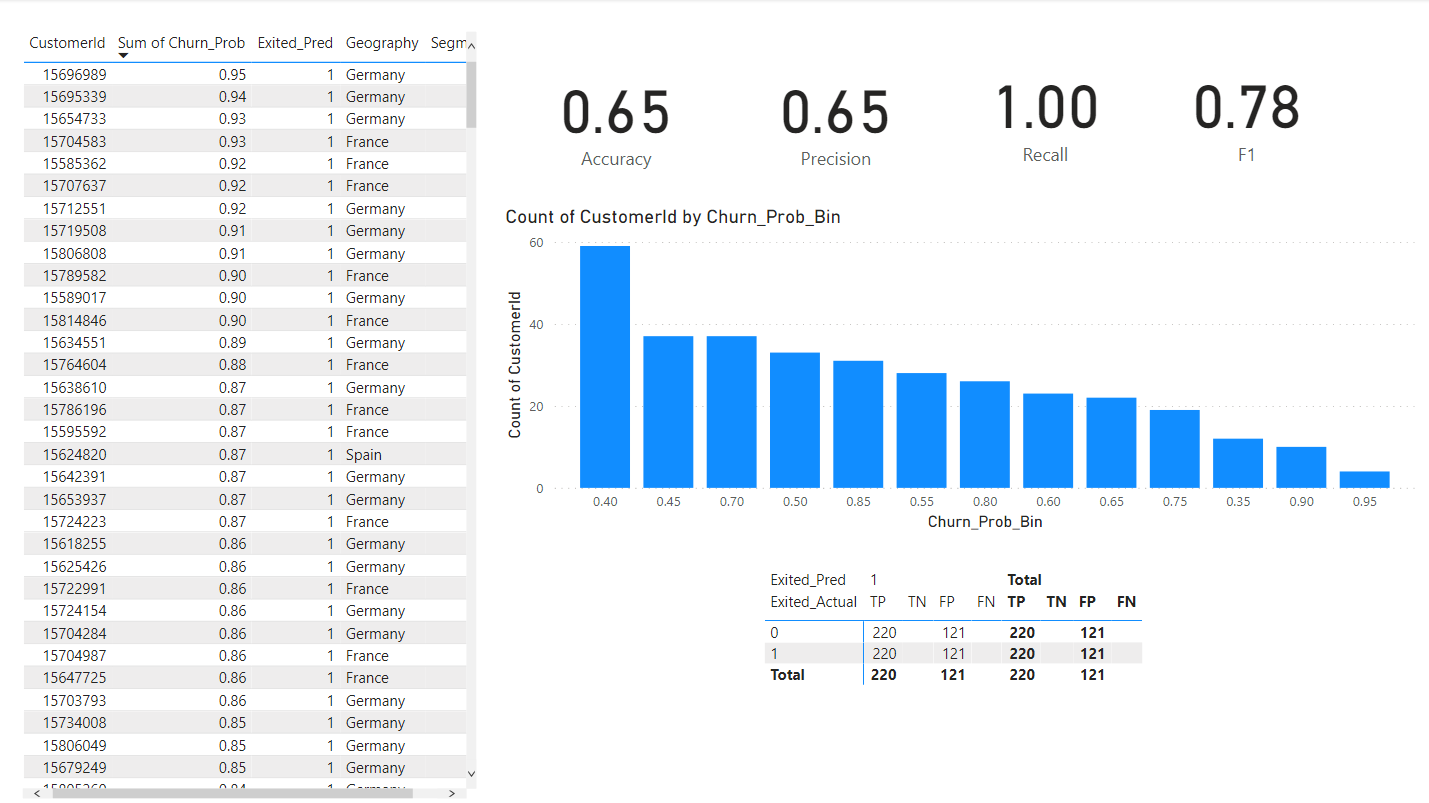

The dashboard page shown, as its layout file describes it:
{"tool":"powerbi","page":{"name":"Model Outputs","canvas":[1280,720],"ordinal":4},"visuals":[{"type":"tableEx","fields":{"Values":["churn_predictions.CustomerId","Sum(churn_predictions.Churn_Prob)","Sum(churn_predictions.Exited_Pred)","churn_predictions.Geography","Sum(bank_churn_clean.Segment)"]},"box":[16,24,416,696],"z":0},{"type":"columnChart","fields":{"Category":["churn_predictions.Churn_Prob_Bin"],"Y":["CountNonNull(churn_predictions.CustomerId)"]},"box":[448,184,824,296],"z":1000},{"type":"pivotTable","fields":{"Rows":["churn_predictions.Exited_Actual"],"Columns":["churn_predictions.Exited_Pred"],"Values":["bank_churn_clean.TP","bank_churn_clean.TN","bank_churn_clean.FP","bank_churn_clean.FN"]},"box":[680,504,368,152],"z":2000},{"type":"card","fields":{"Values":["bank_churn_clean.Accuracy"]},"box":[448,32,208,144],"z":3000},{"type":"card","fields":{"Values":["bank_churn_clean.Precision"]},"box":[648,40,200,128],"z":4000},{"type":"card","fields":{"Values":["bank_churn_clean.Recall"]},"box":[848,32,176,136],"z":5000},{"type":"card","fields":{"Values":["bank_churn_clean.F1"]},"box":[1024,32,184,136],"z":6000}]}

Visuals, with their boxes in screenshot pixels (x1, y1, x2, y2), scaled from the page's 1280x720 canvas onto the 1429x803 screenshot:
tableEx - churn_predictions.CustomerId x Sum(churn_predictions.Churn_Prob): {"x1": 18, "y1": 27, "x2": 482, "y2": 802}
columnChart - churn_predictions.Churn_Prob_Bin x CountNonNull(churn_predictions.CustomerId): {"x1": 500, "y1": 205, "x2": 1420, "y2": 535}
pivotTable - churn_predictions.Exited_Actual x churn_predictions.Exited_Pred: {"x1": 759, "y1": 562, "x2": 1170, "y2": 732}
card - bank_churn_clean.Accuracy: {"x1": 500, "y1": 36, "x2": 732, "y2": 196}
card - bank_churn_clean.Precision: {"x1": 723, "y1": 45, "x2": 947, "y2": 187}
card - bank_churn_clean.Recall: {"x1": 947, "y1": 36, "x2": 1143, "y2": 187}
card - bank_churn_clean.F1: {"x1": 1143, "y1": 36, "x2": 1349, "y2": 187}
